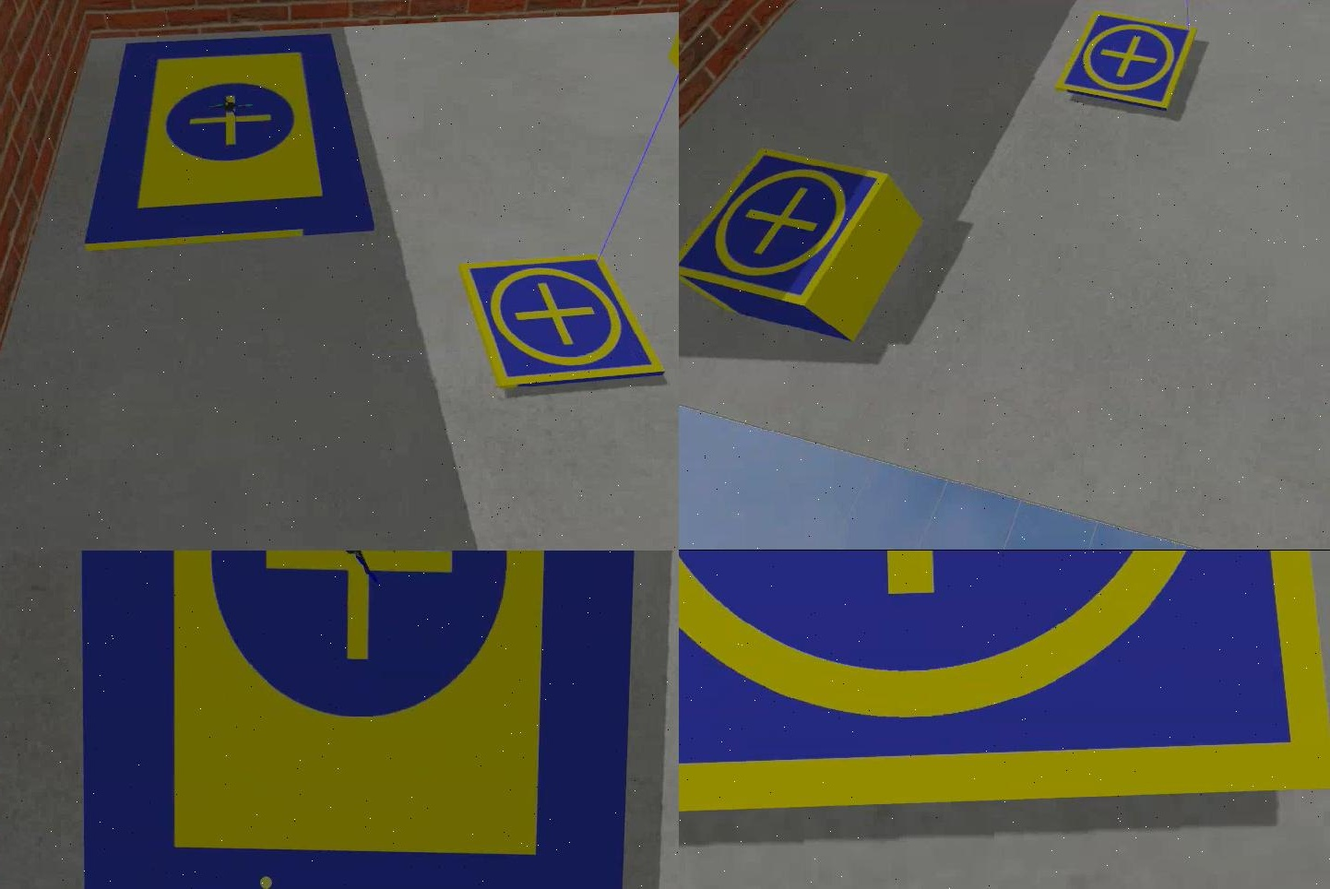large_base: (82, 551, 639, 889), (79, 30, 370, 251)
small_base: (678, 551, 1328, 820), (678, 150, 886, 306), (452, 258, 665, 395), (1055, 15, 1193, 115)
